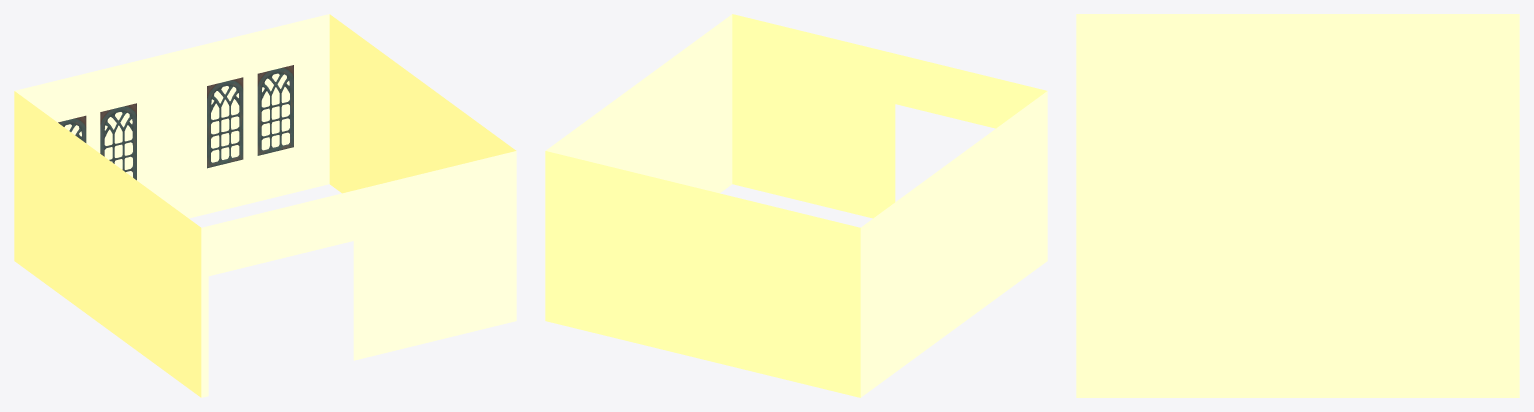
File: Homeworld_Interior_Md_Room_N_Filling_01_Vo.fbx
The picture shows the model from 3 angles, left to right: view 1: azimuth 30°, elevation 25°; view 2: azimuth 150°, elevation 25°; view 3: azimuth 270°, elevation 25°; orthographic projection. The views are drawn at different scales.
Parts seen in each view (by area): view 1: Homeworld_Interior_Md_Room_N_Filling_01_Vo; view 2: Homeworld_Interior_Md_Room_N_Filling_01_Vo; view 3: Homeworld_Interior_Md_Room_N_Filling_01_Vo.
Part boxes in pixels (x1,y1,x2,y2): Homeworld_Interior_Md_Room_N_Filling_01_Vo: (14, 14, 516, 397); Homeworld_Interior_Md_Room_N_Filling_01_Vo: (545, 14, 1047, 397); Homeworld_Interior_Md_Room_N_Filling_01_Vo: (1076, 14, 1519, 397).
Size of the model in its own units: 9.75 by 5.03 by 10.02.
